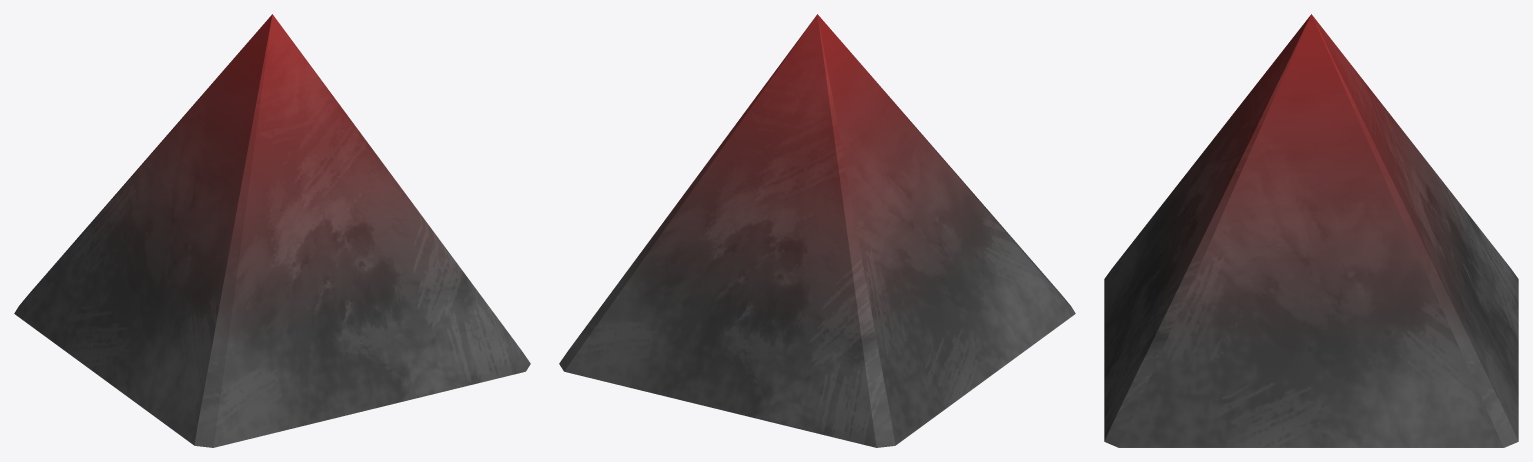
The model's file is spike.FBX.
The picture shows the model from 3 angles, left to right: view 1: azimuth 30°, elevation 25°; view 2: azimuth 150°, elevation 25°; view 3: azimuth 270°, elevation 25°; orthographic projection. The views are drawn at different scales.
Visible parts, largest first — view 1: Box001; view 2: Box001; view 3: Box001.
Boxes of the visible parts, x1,y1,x2,y2 form: Box001: (14, 14, 530, 447); Box001: (559, 14, 1075, 447); Box001: (1104, 14, 1518, 447).
Size of the model in its own units: 50 by 46.13 by 50.
